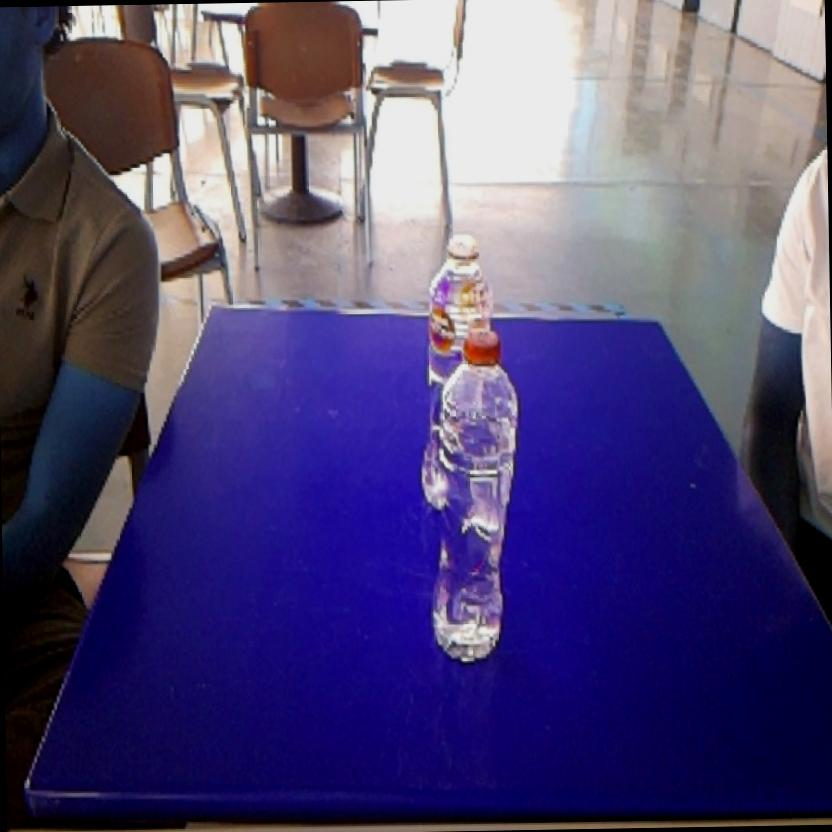no_cap: (419, 224, 505, 323)
no_label: (420, 326, 528, 670)
